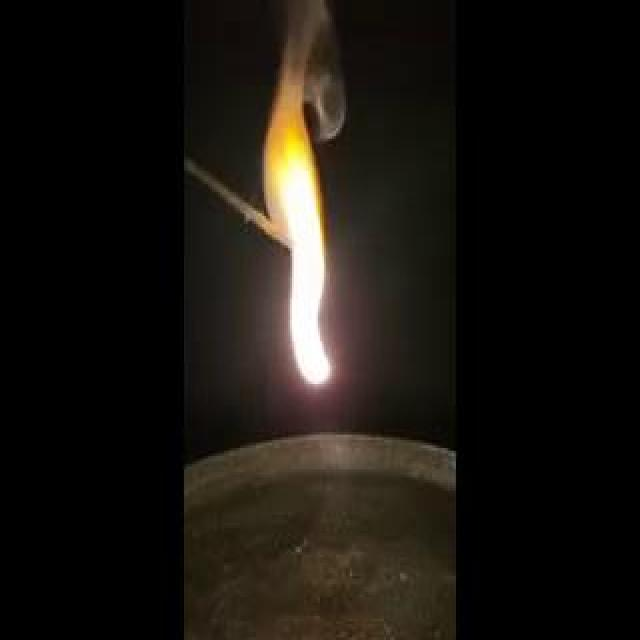Fire: (84, 214, 301, 318)
